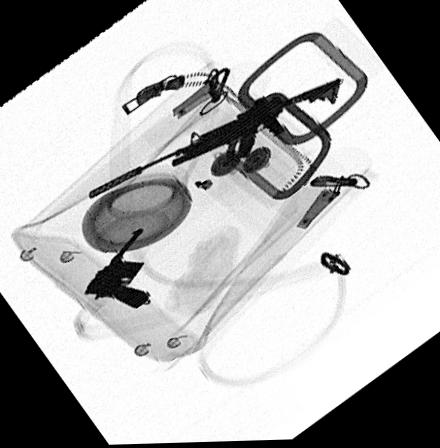Gun: (86, 80, 342, 199), (77, 224, 148, 308)
